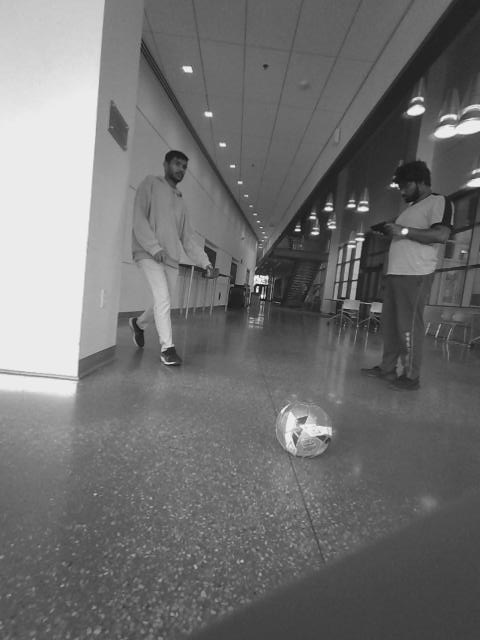ball: (273, 395, 338, 458)
